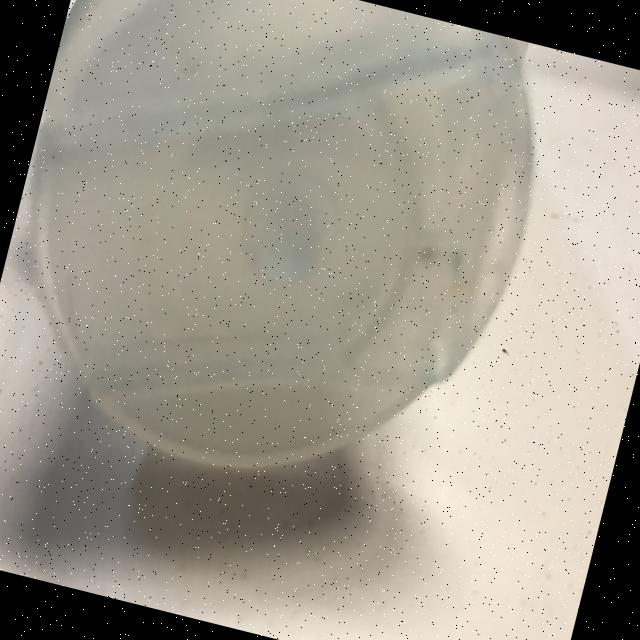plastic: (0, 0, 571, 527)
